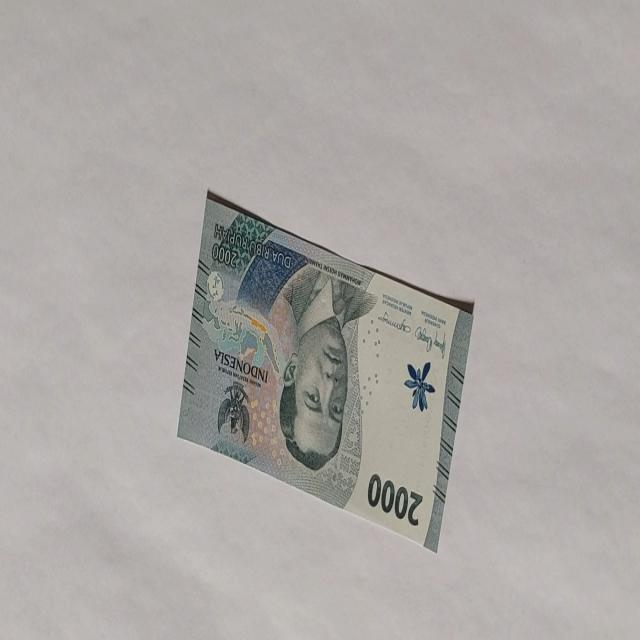dua ribu rupiah: (176, 188, 474, 554), (276, 264, 376, 473)
